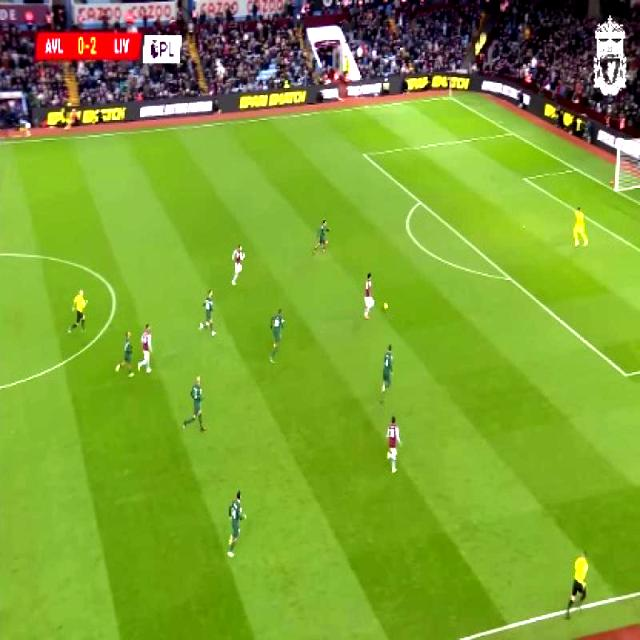bigarea_bottom_inner: (616, 362, 634, 383)
bigarea_top_inner: (356, 145, 370, 163)
bigarea_top_outter: (504, 125, 519, 140)
bottom_arc_area_intersection: (502, 268, 516, 288)
corner: (440, 90, 455, 104)
smallarea_top_inner: (517, 169, 531, 188)
smallarea_top_outter: (568, 160, 582, 177)
top_arc_area_intersection: (412, 192, 426, 210)
